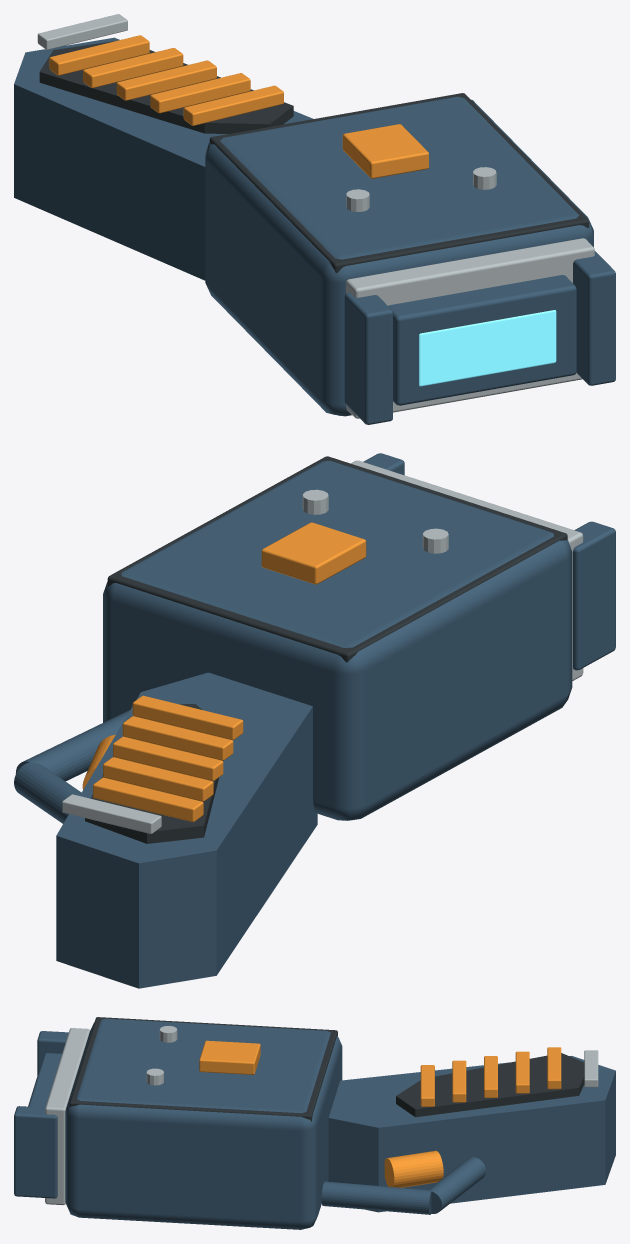
File: container-inspection-and-customs-yard-container-inspec-a2a41333__29285.glb
3 views of the same model, one above another, from view 1: azimuth 30°, elevation 25°; view 2: azimuth 150°, elevation 25°; view 3: azimuth 270°, elevation 25° (orthographic). The views are drawn at different scales.
Parts seen in each view (by area): view 1: container-inspection-and-customs-yard-handheld-scanner; view 2: container-inspection-and-customs-yard-handheld-scanner; view 3: container-inspection-and-customs-yard-handheld-scanner.
Boxes of the visible parts, bbox=[...] form: container-inspection-and-customs-yard-handheld-scanner: bbox=[14, 14, 615, 424]; container-inspection-and-customs-yard-handheld-scanner: bbox=[14, 453, 615, 988]; container-inspection-and-customs-yard-handheld-scanner: bbox=[14, 1017, 615, 1229].
Size of the model in its own units: 0.1404 by 0.088 by 0.3423.
